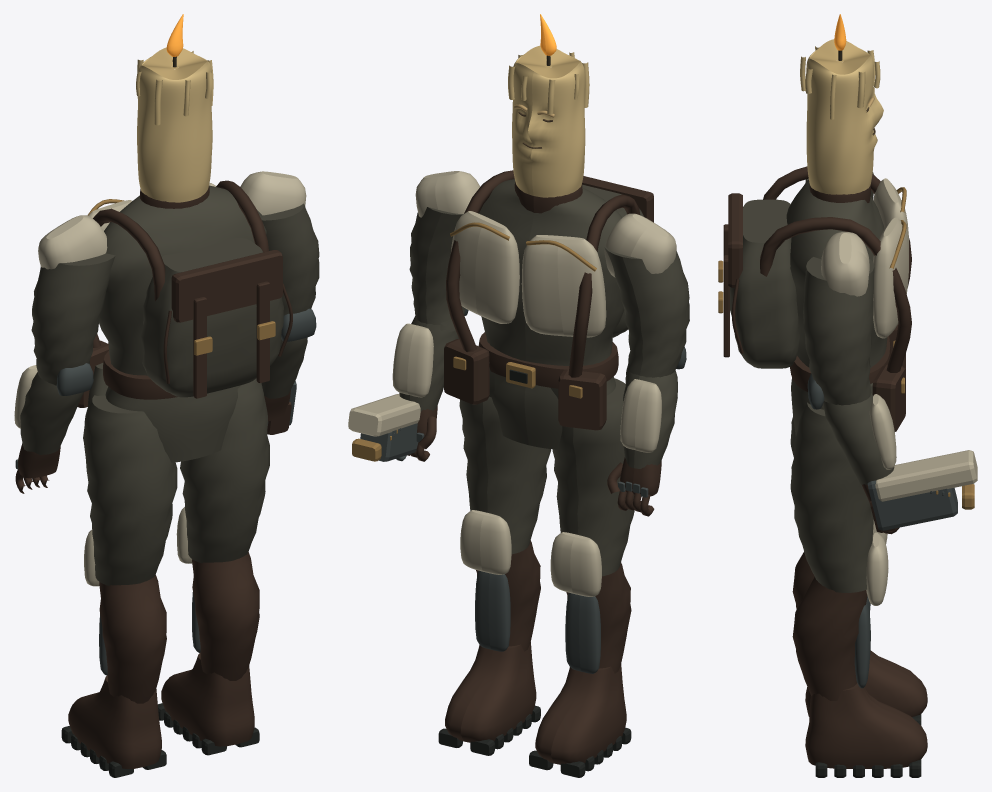
The picture shows the model from 3 angles, left to right: view 1: azimuth 30°, elevation 25°; view 2: azimuth 150°, elevation 25°; view 3: azimuth 270°, elevation 25°; orthographic projection. The views are drawn at different scales.
Visible parts, largest first — view 1: body-cloth, leg-left-cloth, leg-right-cloth, arm-left-cloth, candle-wax, arm-right-cloth, arm-left-armor, arm-right-armor, body-armor, leg-left-armor, leg-right-armor; view 2: body-cloth, leg-left-cloth, leg-right-cloth, body-armor, arm-left-cloth, candle-wax, arm-right-armor, arm-right-cloth, arm-left-armor, leg-left-armor, leg-right-armor; view 3: leg-right-cloth, body-cloth, arm-right-cloth, arm-right-armor, candle-wax, body-armor, leg-left-cloth, leg-right-armor.
Boxes of the visible parts, x1=… form: body-cloth: x1=77, y1=180, x2=292, y2=462; leg-left-cloth: x1=61, y1=395, x2=177, y2=777; leg-right-cloth: x1=158, y1=378, x2=269, y2=755; arm-left-cloth: x1=15, y1=253, x2=115, y2=493; candle-wax: x1=136, y1=47, x2=213, y2=202; arm-right-cloth: x1=261, y1=203, x2=319, y2=434; arm-left-armor: x1=14, y1=215, x2=107, y2=469; arm-right-armor: x1=240, y1=171, x2=316, y2=425; body-armor: x1=87, y1=183, x2=275, y2=355; leg-left-armor: x1=84, y1=529, x2=107, y2=675; leg-right-armor: x1=176, y1=507, x2=200, y2=652; body-cloth: x1=444, y1=170, x2=653, y2=449; leg-left-cloth: x1=529, y1=378, x2=634, y2=777; leg-right-cloth: x1=438, y1=396, x2=550, y2=755; body-armor: x1=450, y1=211, x2=606, y2=398; arm-left-cloth: x1=604, y1=245, x2=689, y2=516; candle-wax: x1=508, y1=45, x2=589, y2=197; arm-right-armor: x1=348, y1=171, x2=480, y2=461; arm-right-cloth: x1=399, y1=207, x2=465, y2=461; arm-left-armor: x1=604, y1=213, x2=686, y2=497; leg-left-armor: x1=550, y1=532, x2=601, y2=673; leg-right-armor: x1=460, y1=510, x2=511, y2=651; leg-right-cloth: x1=790, y1=402, x2=927, y2=777; body-cloth: x1=723, y1=166, x2=911, y2=436; arm-right-cloth: x1=803, y1=257, x2=899, y2=534; arm-right-armor: x1=807, y1=232, x2=977, y2=530; candle-wax: x1=800, y1=39, x2=883, y2=194; body-armor: x1=718, y1=178, x2=908, y2=393; leg-left-cloth: x1=790, y1=416, x2=927, y2=725; leg-right-armor: x1=854, y1=532, x2=888, y2=688.
Bounding box in the file's own units: 0.7532 × 1.9 × 0.6082.
